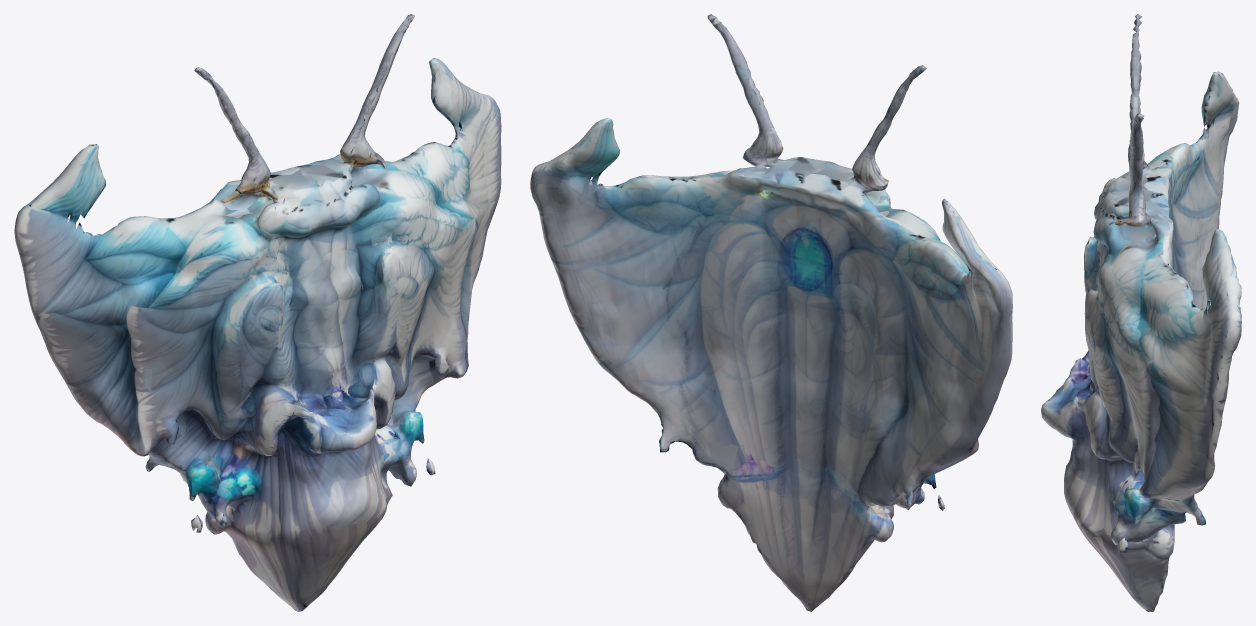
The model's file is 天界盾.fbx.
3 renders of one model, left to right at view 1: azimuth 30°, elevation 25°; view 2: azimuth 150°, elevation 25°; view 3: azimuth 270°, elevation 25°, orthographic. The views are drawn at different scales.
Parts seen in each view (by area): view 1: 天界盾; view 2: 天界盾; view 3: 天界盾.
Part boxes in pixels (x1=…): 天界盾: x1=14, y1=14, x2=501, y2=611; 天界盾: x1=530, y1=14, x2=1012, y2=611; 天界盾: x1=1041, y1=14, x2=1241, y2=611.
Bounding box in the file's own units: 88.33 × 33.23 × 100.
1 material, 1 textured.
